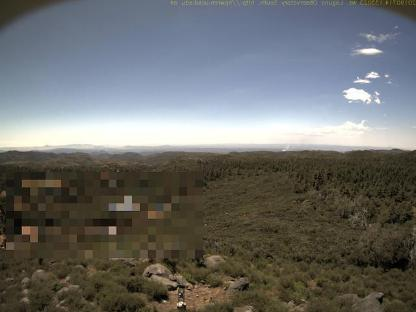smoke: (280, 138, 294, 152)
